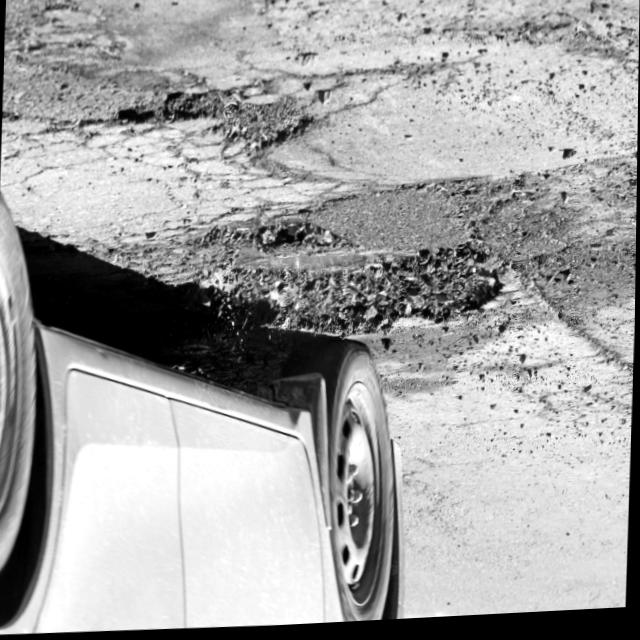pathole: (192, 218, 502, 342), (2, 76, 312, 144)
